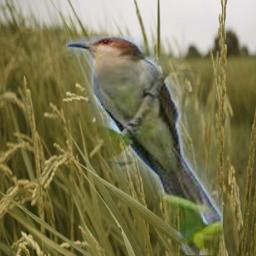Cuckoo: (66, 36, 223, 255)
